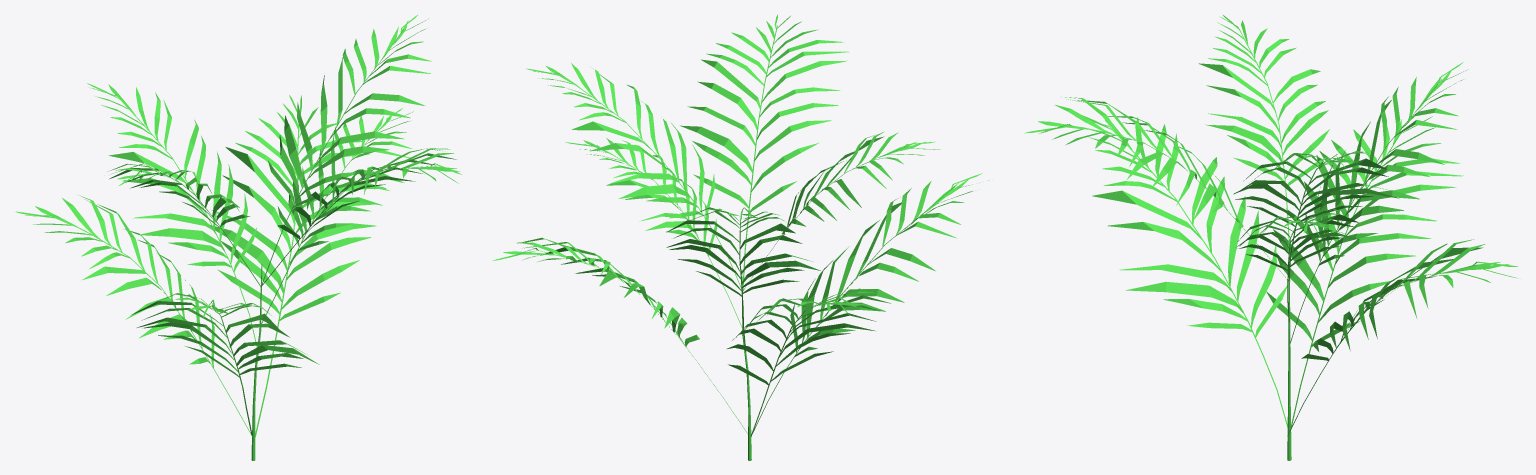
The model's file is Areca_Palm_02.fbx.
3 renders of one model, left to right at view 1: azimuth 30°, elevation 25°; view 2: azimuth 150°, elevation 25°; view 3: azimuth 270°, elevation 25°, orthographic. The views are drawn at different scales.
Parts seen in each view (by area): view 1: Areca_Palm_02; view 2: Areca_Palm_02; view 3: Areca_Palm_02.
Part boxes in pixels (left/top/right/bottom): Areca_Palm_02: left=16, top=15, right=461, bottom=460; Areca_Palm_02: left=492, top=14, right=988, bottom=460; Areca_Palm_02: left=1024, top=15, right=1517, bottom=460.
Size of the model in its own units: 170 by 162 by 183.
